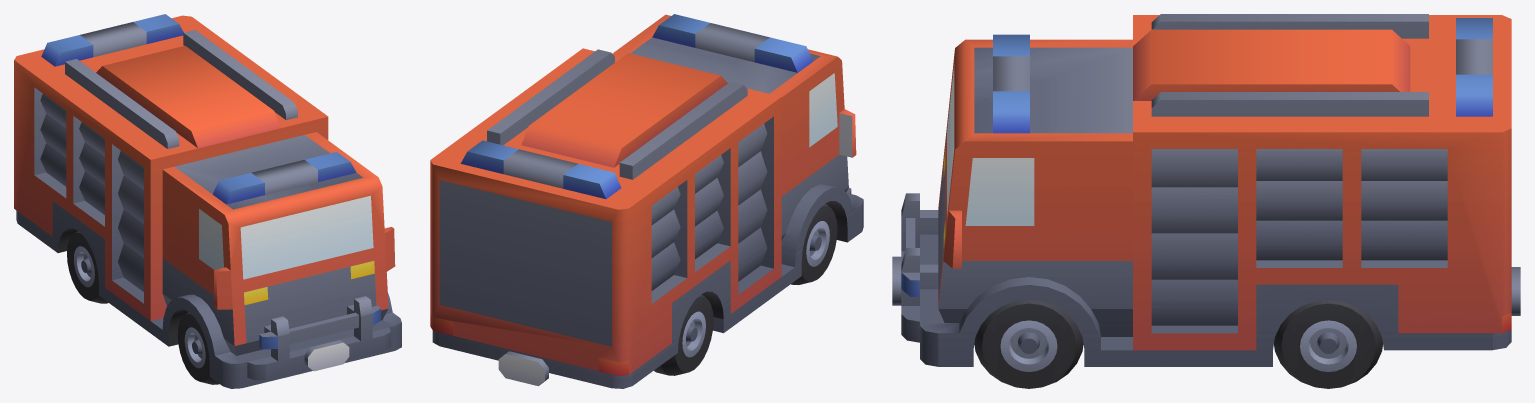
File: firetruck-transformed.glb
3 renders of one model, left to right at view 1: azimuth 30°, elevation 25°; view 2: azimuth 150°, elevation 25°; view 3: azimuth 270°, elevation 25°, orthographic. The views are drawn at different scales.
Parts seen in each view (by area): view 1: body; view 2: body; view 3: body.
Boxes of the visible parts, bbox=[...] form: body: bbox=[14, 14, 401, 388]; body: bbox=[430, 14, 863, 388]; body: bbox=[892, 14, 1520, 388].
Bounding box in the file's own units: 1.5 × 1.7 × 3.4.
Materials: 1 (1 with a texture image).
